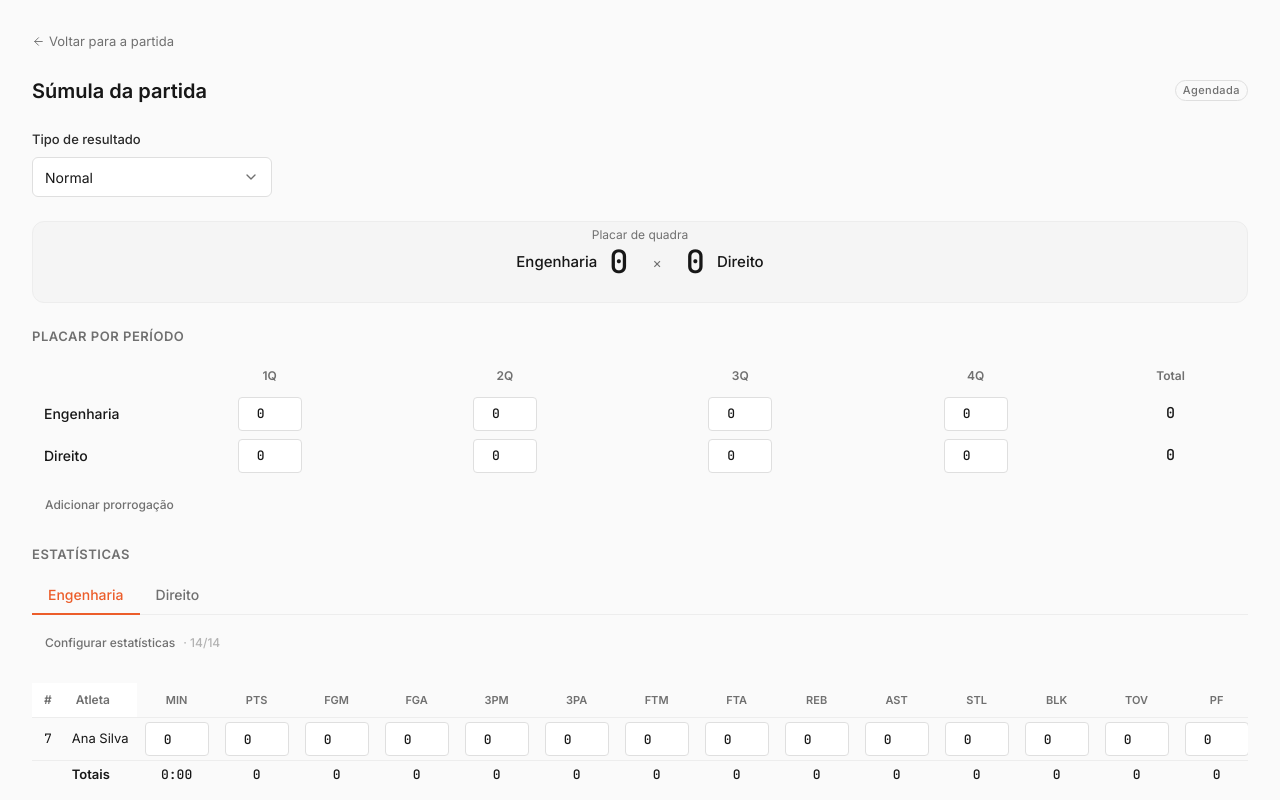
MatchSumulaPage — roster hydration › uses every ATHLETE in roster order and excludes coaching staff
The width and height of the screenshot is (1280, 800).
Expected: the text "Ana Silva" is shown, left=72, top=730, right=129, bottom=746
Click the tab "Direito" at (177,596), box left=140, top=576, right=215, bottom=615
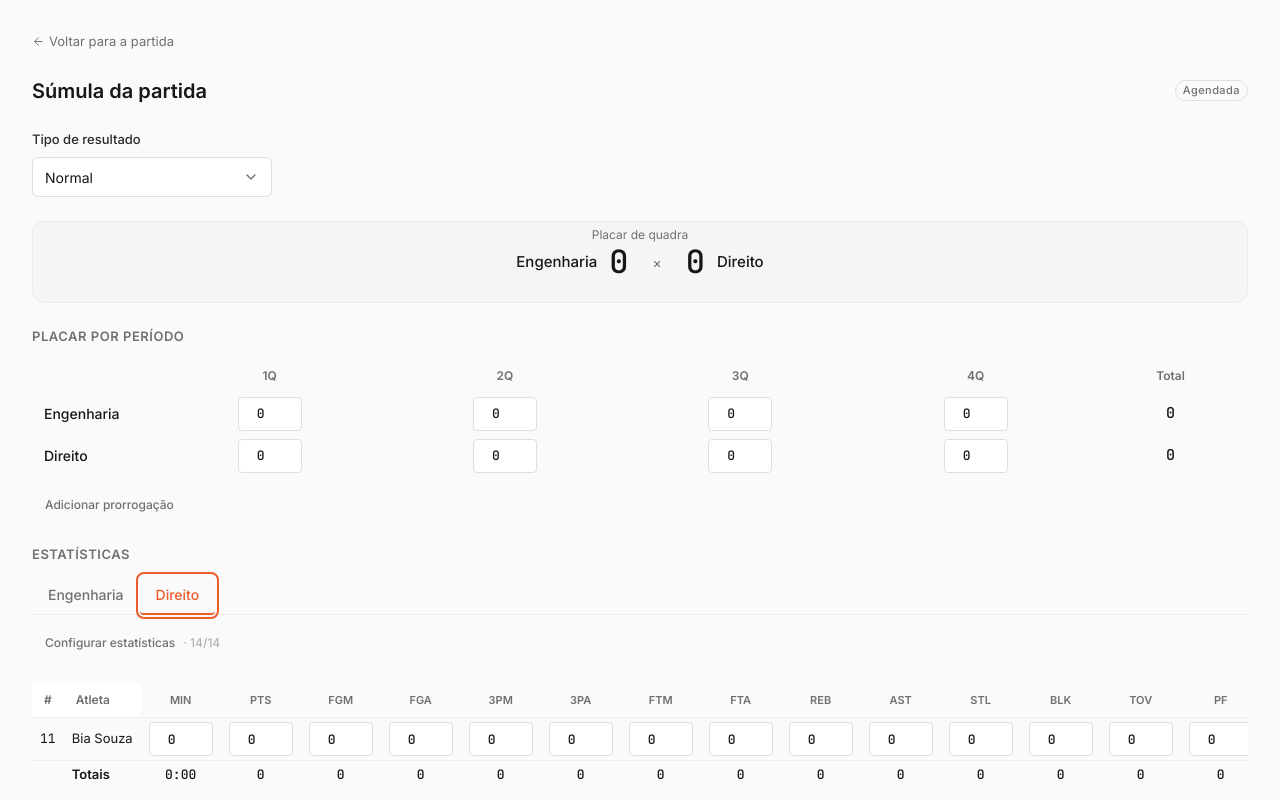
Expected: the text "Bia Souza" is shown, left=72, top=730, right=133, bottom=746
